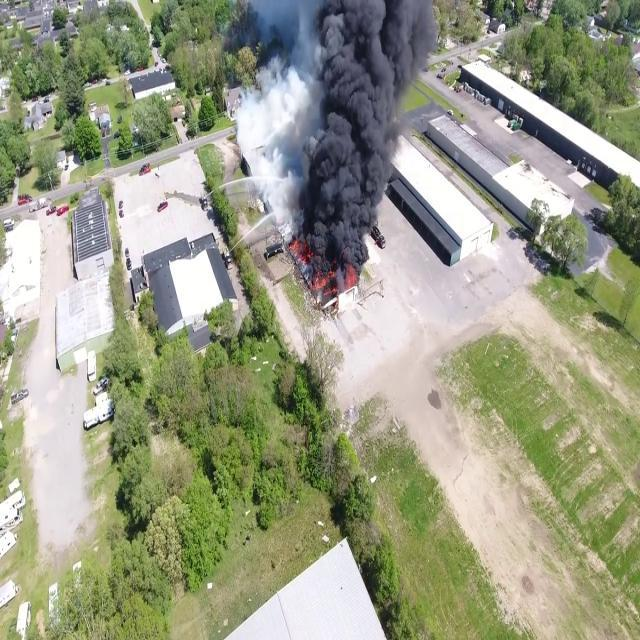Smoke: (234, 0, 438, 295)
